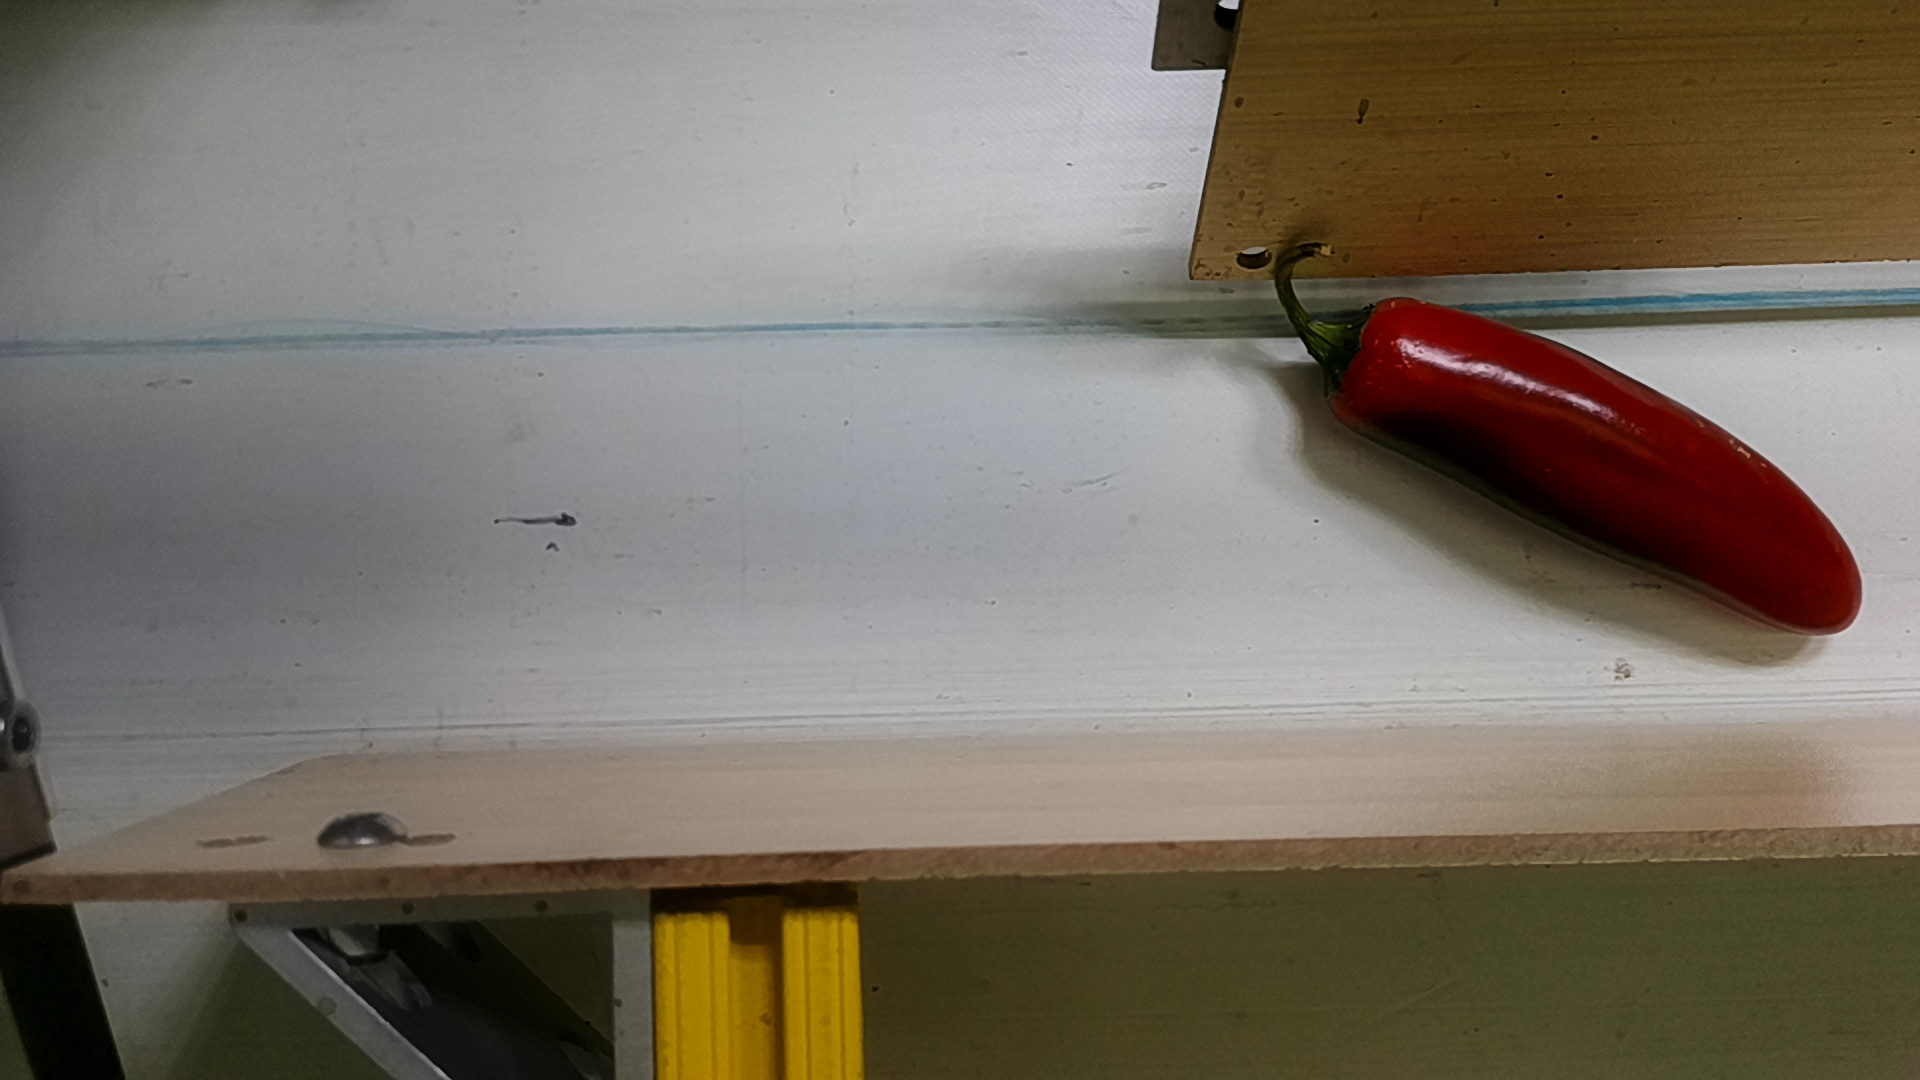Cut Point: (1313, 280, 1411, 447)
